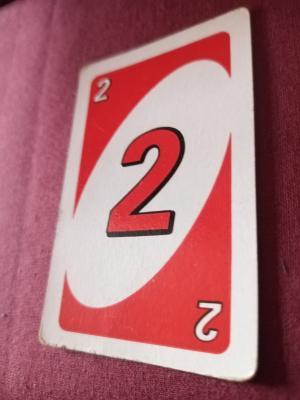num_2: (189, 293, 229, 347), (90, 74, 115, 107)
red: (30, 9, 253, 386)
